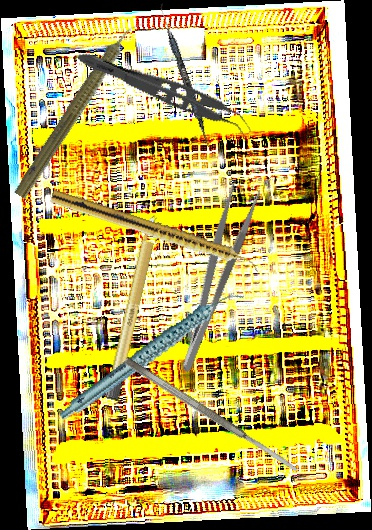Dressing Forceps: (162, 179, 264, 376)
Handpiece: (41, 287, 262, 422), (10, 12, 148, 204), (48, 188, 263, 275)
Scalpel Handle: (104, 212, 162, 402)
Spatula Surgical: (122, 355, 301, 476), (154, 3, 215, 148)
Tissue Forceps: (69, 46, 258, 142)
